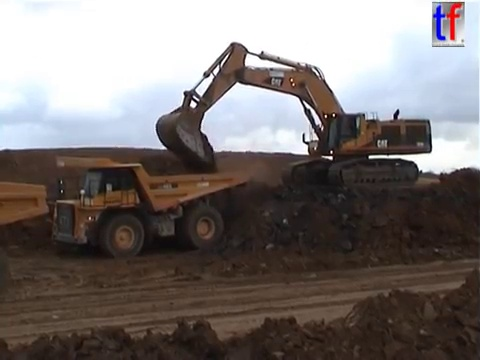excavator: (153, 40, 435, 191)
truck: (48, 153, 249, 259), (1, 175, 51, 300)
